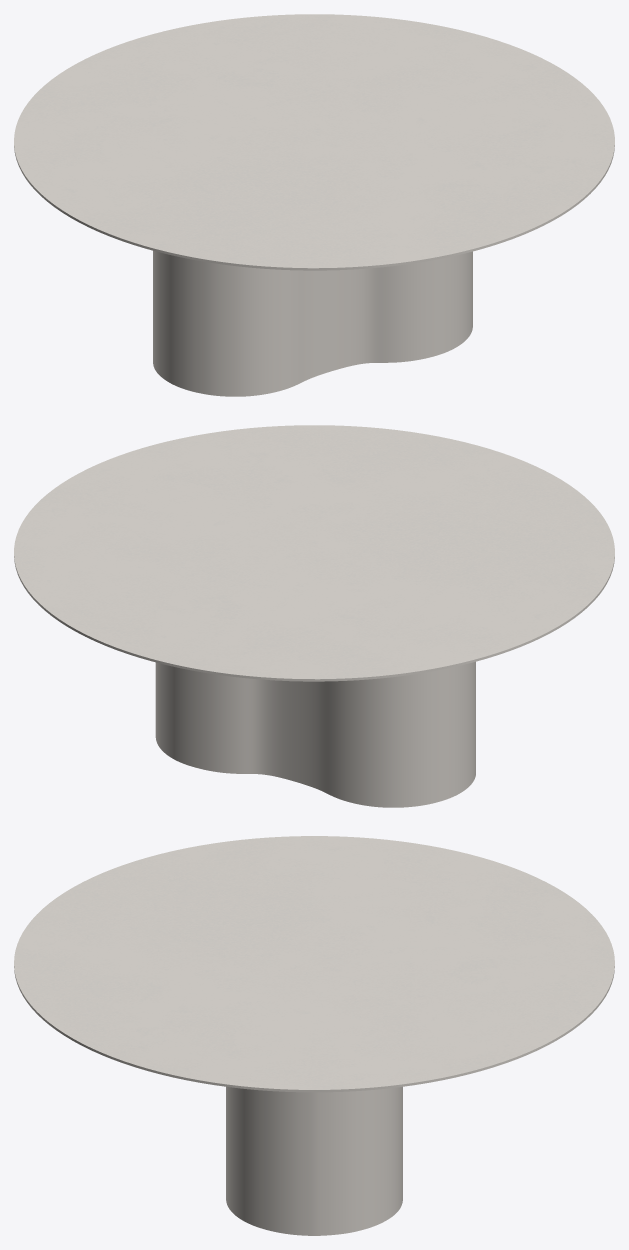
Rendered from pearlwhite_round_facet_riverwave.glb.
3 renders of one model, top to bottom at view 1: azimuth 30°, elevation 25°; view 2: azimuth 150°, elevation 25°; view 3: azimuth 270°, elevation 25°, orthographic.
Parts seen in each view (by area): view 1: facet_round, riverwave; view 2: facet_round, riverwave; view 3: facet_round, riverwave.
Boxes of the visible parts, x1,y1,x2,y2 form: facet_round: [14, 14, 614, 270]; riverwave: [153, 251, 472, 396]; facet_round: [14, 425, 614, 681]; riverwave: [155, 661, 475, 807]; facet_round: [14, 836, 614, 1092]; riverwave: [226, 1087, 402, 1235].
Bounding box in the file's own units: 6.75 × 2.49 × 6.75.
1 material, 1 textured.
